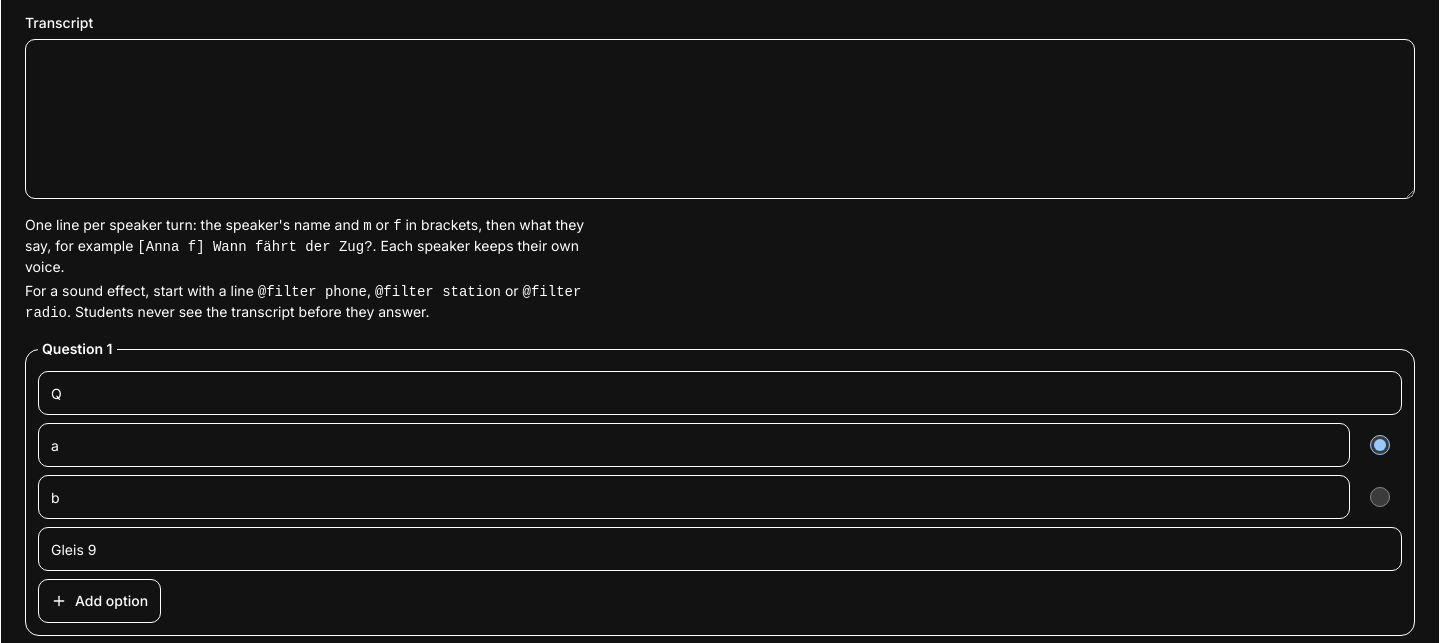
Test: ExerciseEditor listening exercises › shows the validation problems of a transcript being written
Expected: the text "Fix before saving" is not shown
Step 1. Type "kein Tag" into the text box named "Exercise 1 transcript" → (720, 119), box [25,39,1415,199]
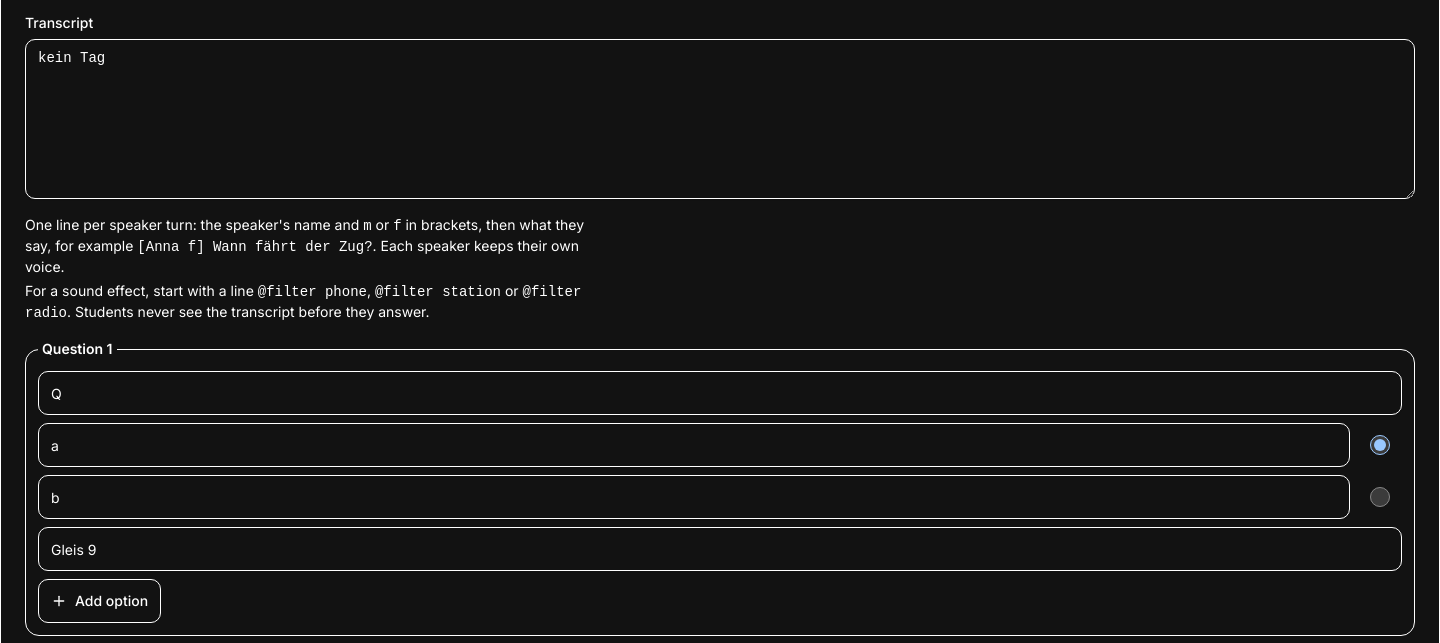
Step 2. Replace the text in the text box named "Exercise 1 transcript" with "[Ben m] Gleis 7." → (720, 119), box [25,39,1415,199]
(page scrolled)
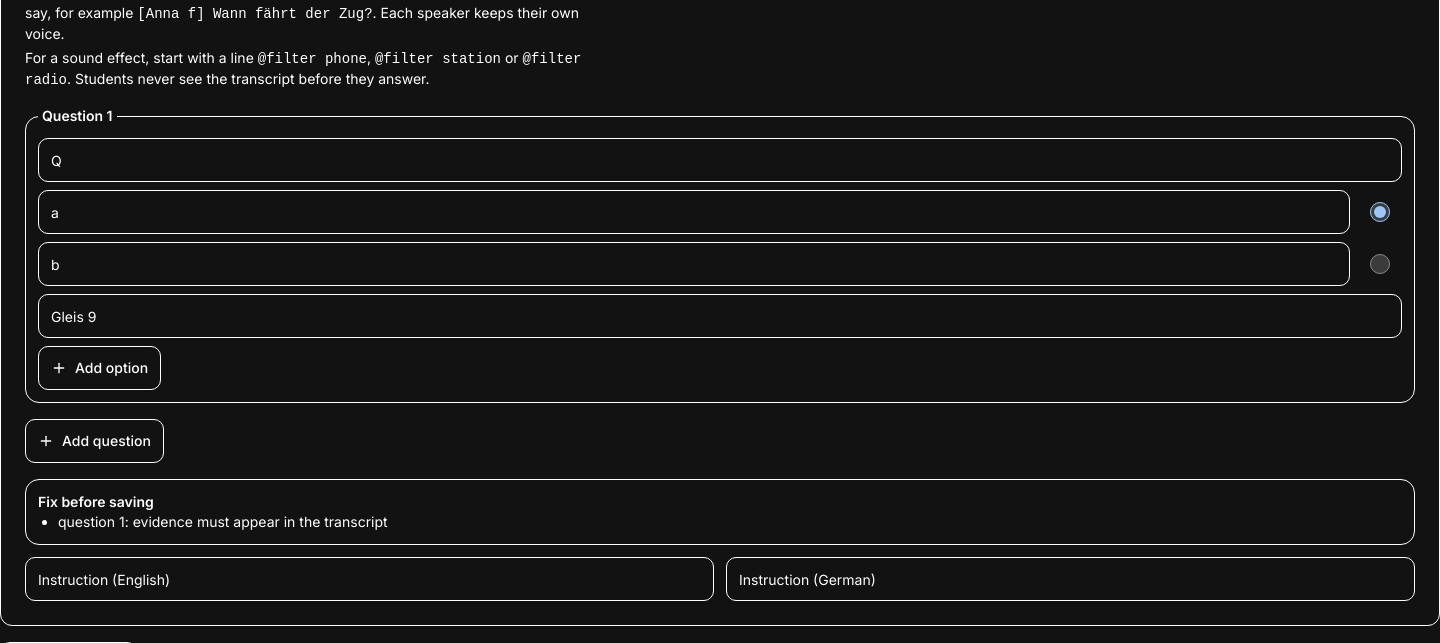
Expected: the list item "question 1: evidence must appear in the transcript" is shown, [58,513,388,530]
